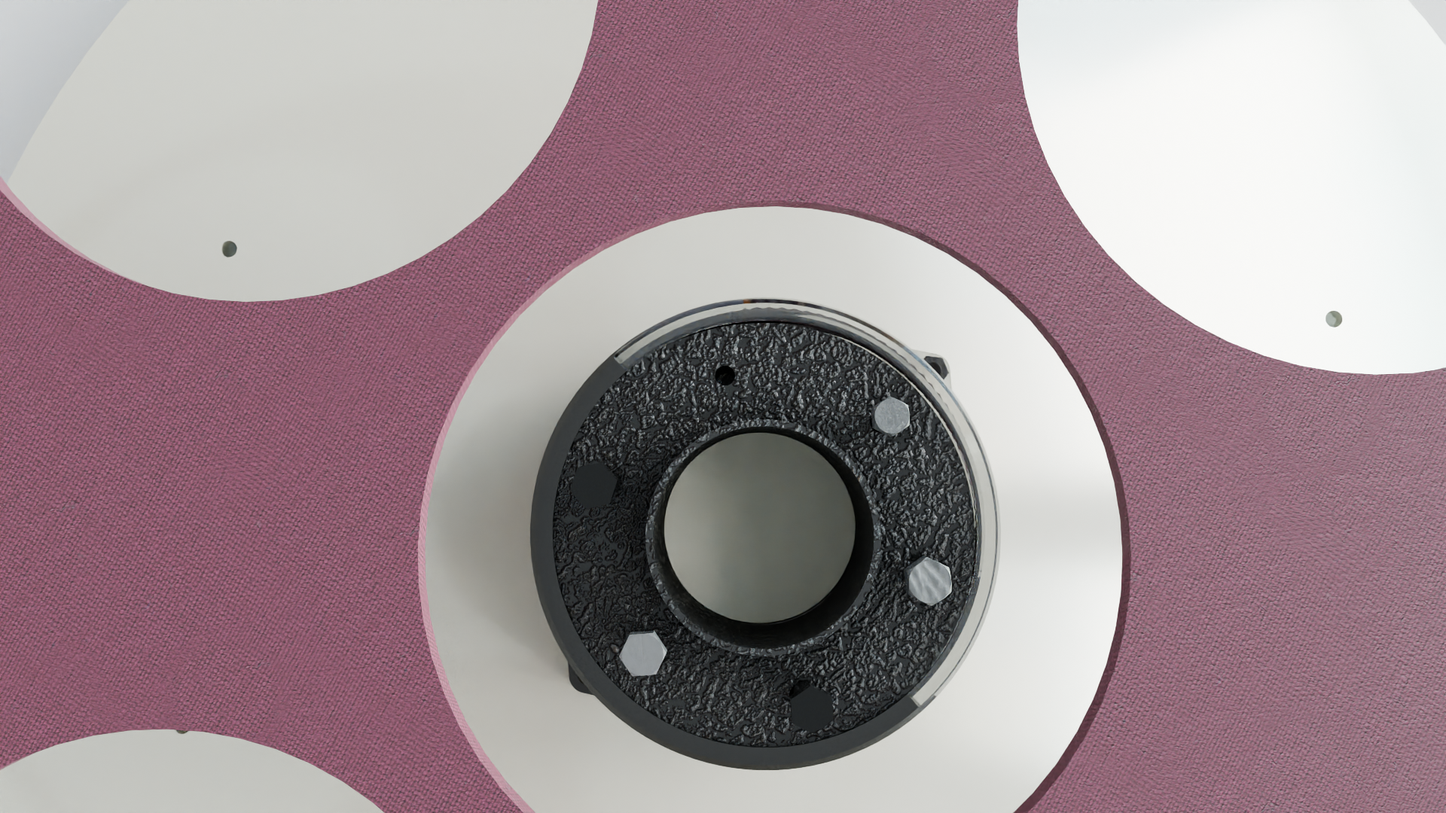bolt: (570, 463, 618, 509), (907, 557, 951, 606), (619, 633, 667, 676), (791, 686, 834, 734), (874, 397, 910, 437)
